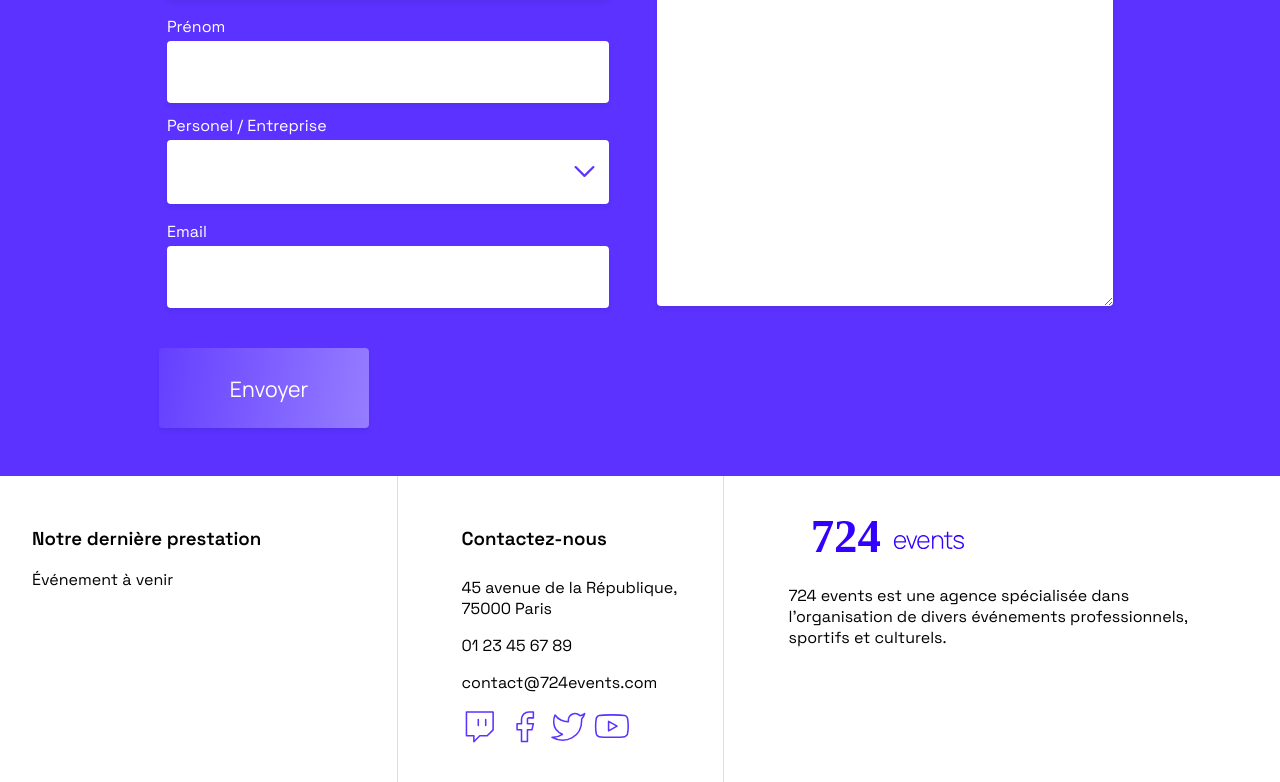
Scenario: Home Page Integration Tests › displays success message after contact form submission
(page scrolled)
Click the button "Envoyer": point(264, 388) [159,348,369,428]
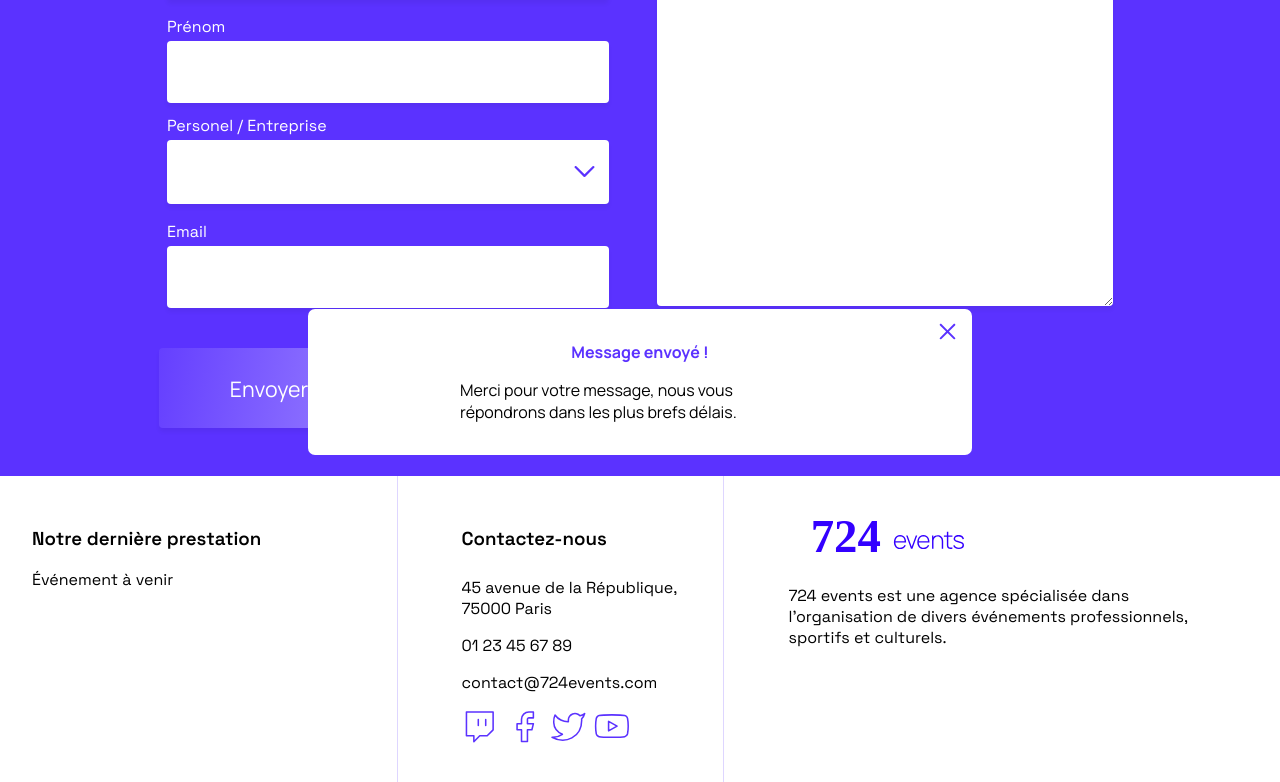
Expected: the text "Message envoyé !" is shown, [571,341,709,363]
